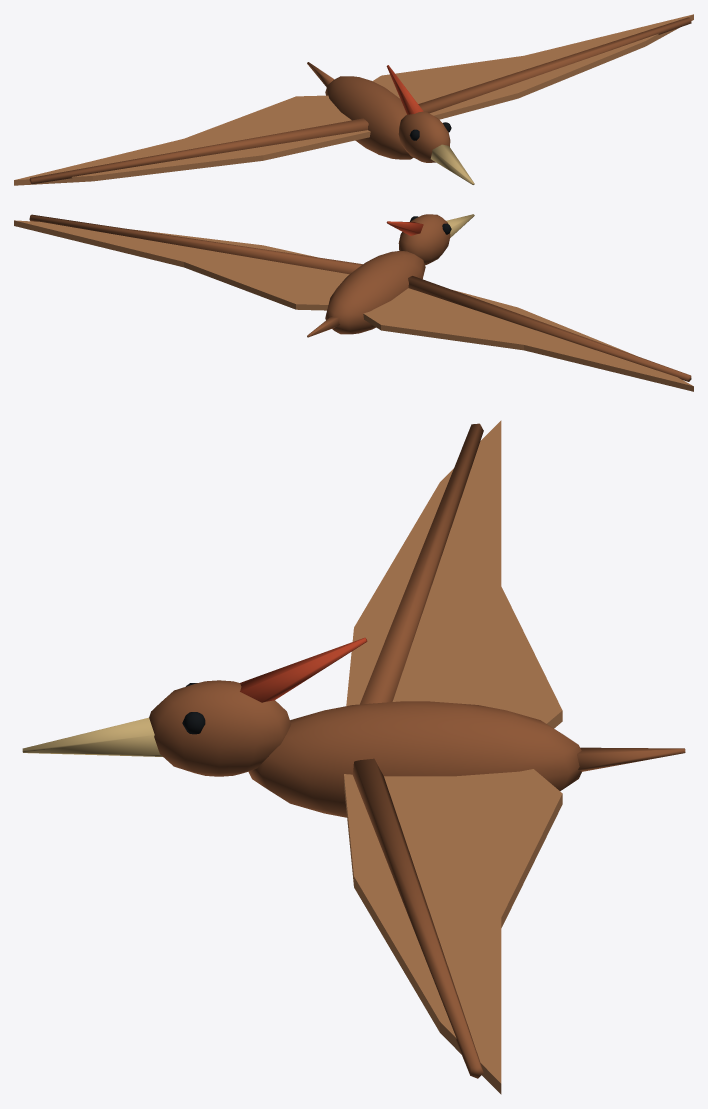
The model's file is ptero.glb.
3 renders of one model, top to bottom at view 1: azimuth 30°, elevation 25°; view 2: azimuth 150°, elevation 25°; view 3: azimuth 270°, elevation 25°, orthographic. The views are drawn at different scales.
Visible parts, largest first — view 1: Ptero; view 2: Ptero; view 3: Ptero.
Part boxes in pixels (x1,y1,x2,y2): Ptero: (14, 14, 693, 185); Ptero: (14, 214, 693, 391); Ptero: (22, 420, 685, 1094).
Bounding box in the file's own units: 6.4 × 0.8071 × 2.7.
